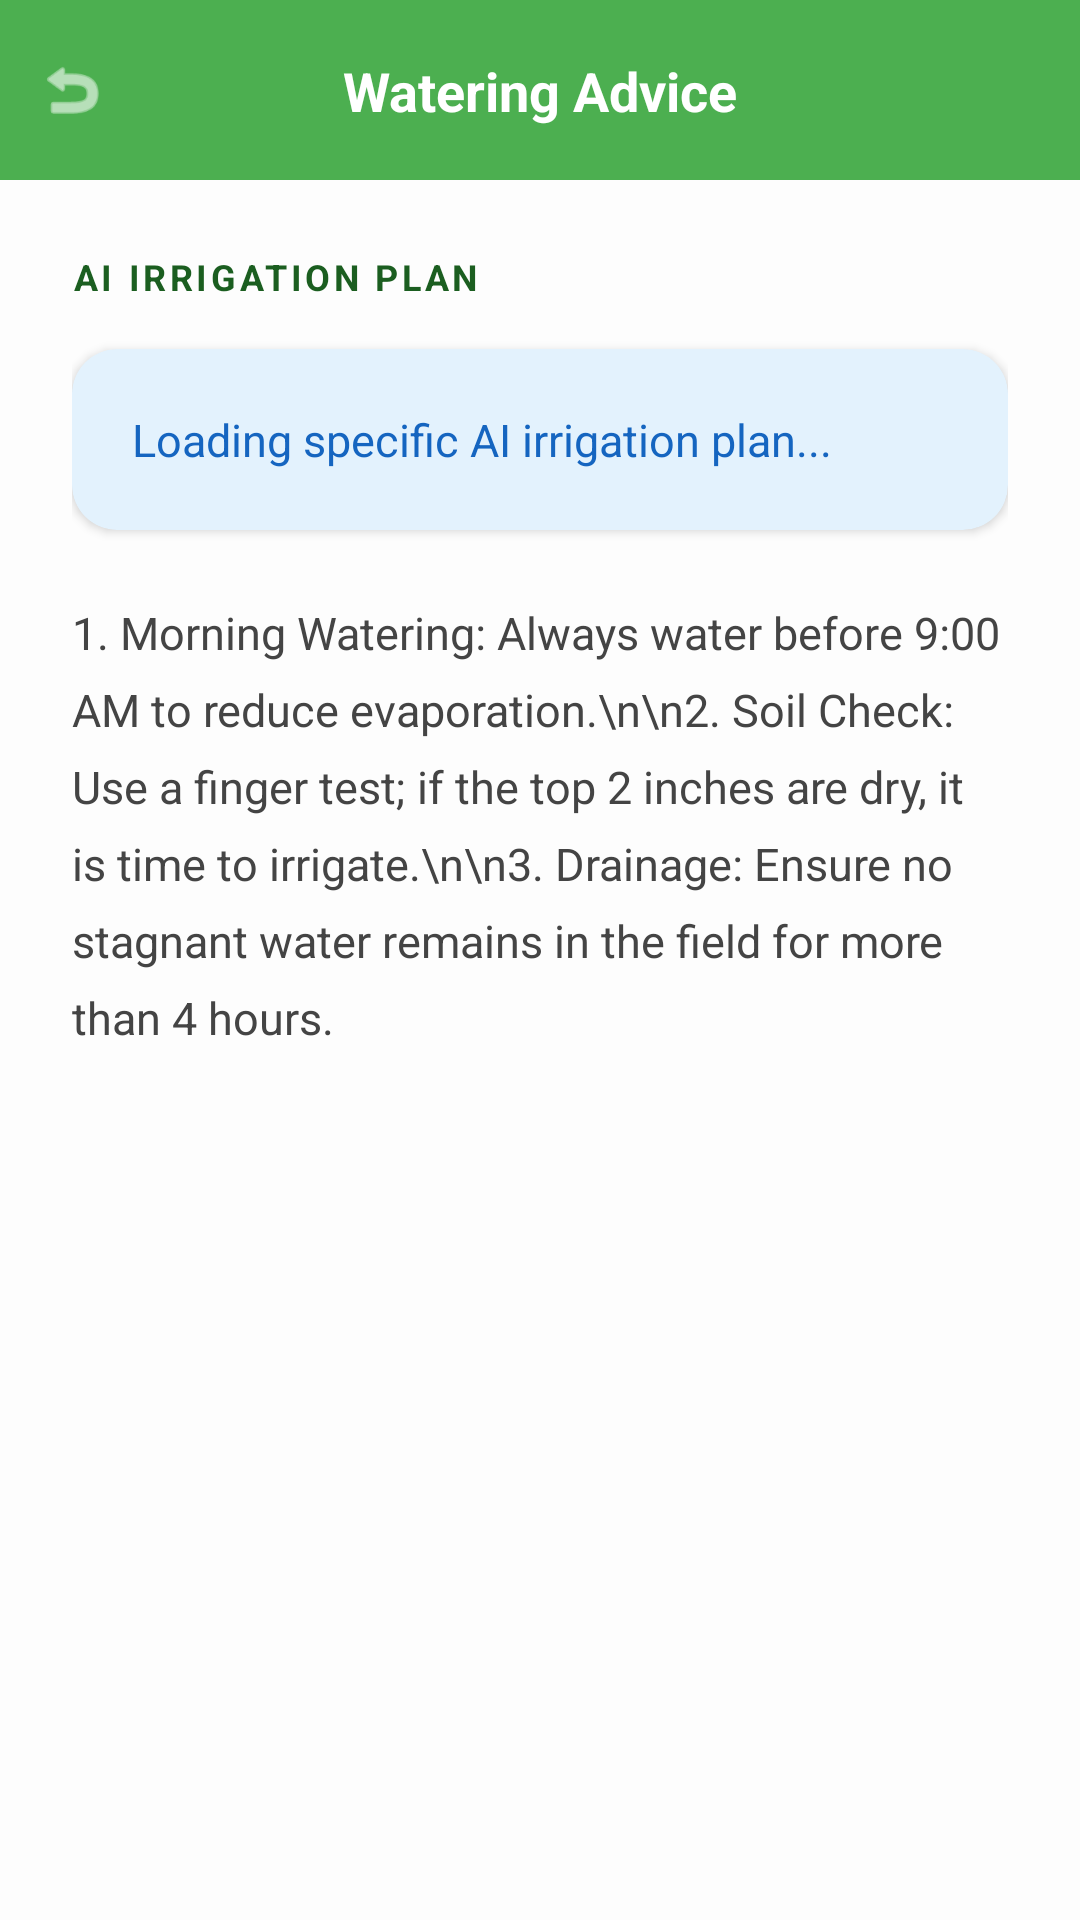

Where to tap for icons on this 1080px x 1920px app screen, as point (x, y):
revert: point (73, 90)
